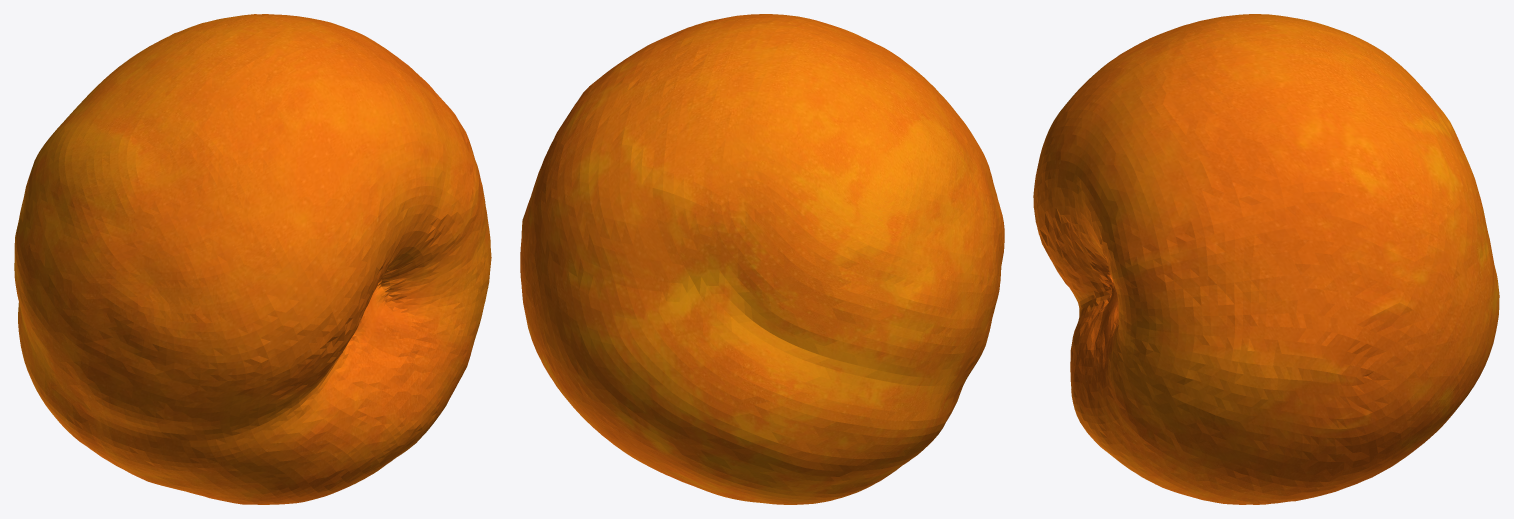
File: golden_strawberry.obj
3 views of the same model, side by side, from view 1: azimuth 30°, elevation 25°; view 2: azimuth 150°, elevation 25°; view 3: azimuth 270°, elevation 25° (orthographic). The views are drawn at different scales.
Parts seen in each view (by area): view 1: fruit; view 2: fruit; view 3: fruit.
Boxes of the visible parts, bbox=[...] form: fruit: bbox=[14, 14, 491, 504]; fruit: bbox=[520, 14, 1004, 504]; fruit: bbox=[1033, 14, 1499, 504].
Bounding box in the file's own units: 1.61 × 1.59 × 1.5.
